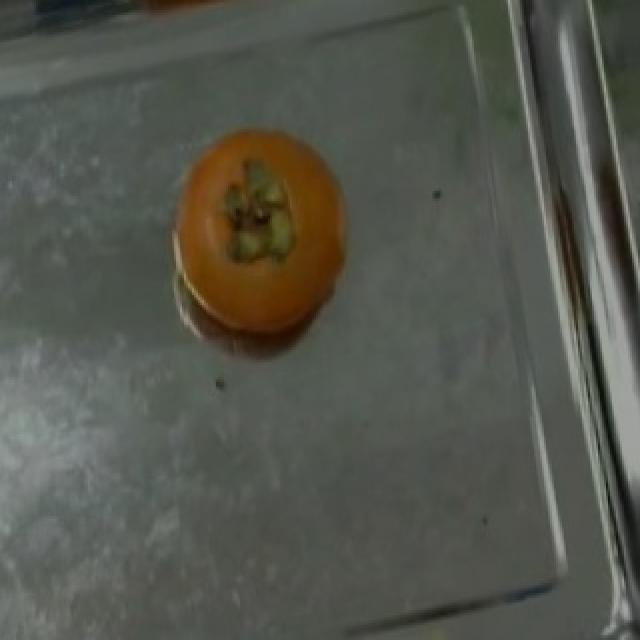Fruit: (146, 112, 376, 357)
